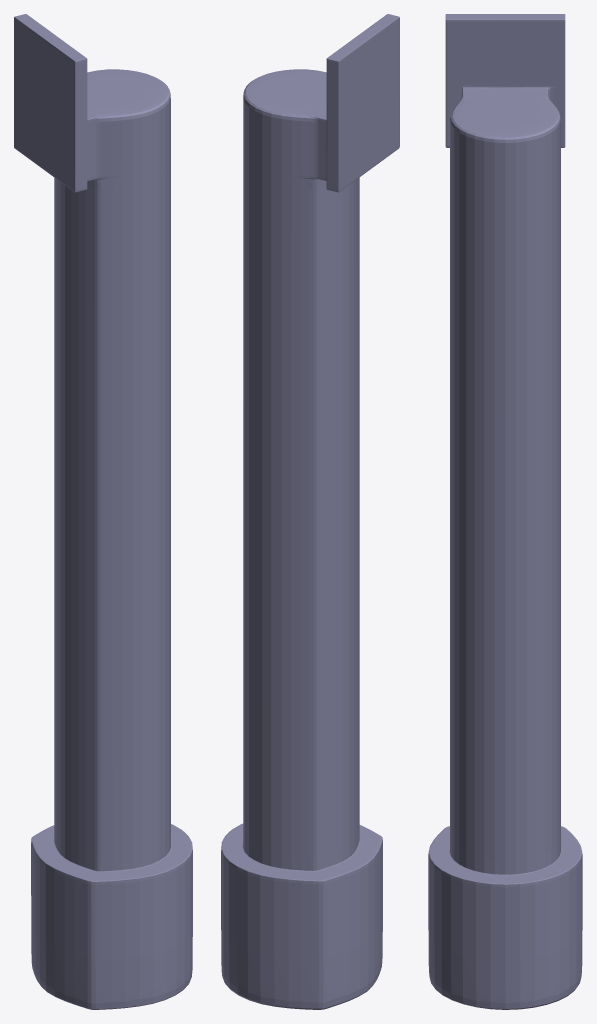
The model's file is cylinder_R_LowPoly.obj.
The picture shows the model from 3 angles, left to right: view 1: azimuth 30°, elevation 25°; view 2: azimuth 150°, elevation 25°; view 3: azimuth 270°, elevation 25°; orthographic projection. The views are drawn at different scales.
Visible parts, largest first — view 1: cylinder_R_LowPoly\Facets; view 2: cylinder_R_LowPoly\Facets; view 3: cylinder_R_LowPoly\Facets.
Part boxes in pixels (x1=…): cylinder_R_LowPoly\Facets: x1=14, y1=14, x2=192, y2=1009; cylinder_R_LowPoly\Facets: x1=221, y1=14, x2=399, y2=1009; cylinder_R_LowPoly\Facets: x1=428, y1=14, x2=582, y2=1009.
Size of the model in its own units: 0.1664 by 1.1 by 0.1647.
